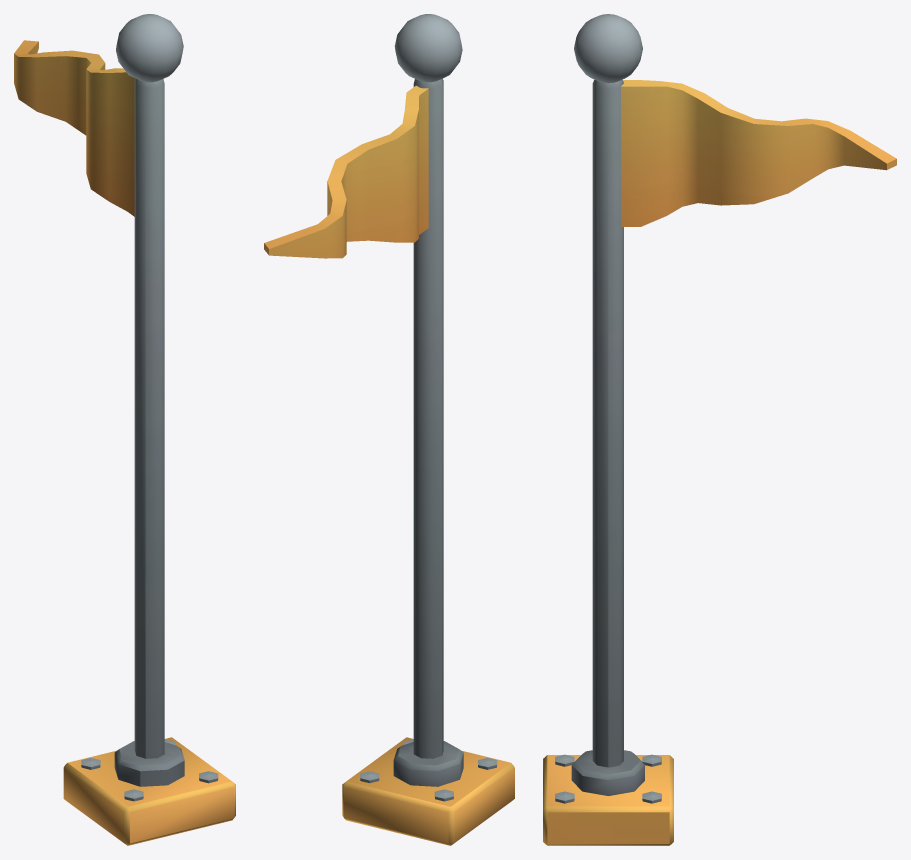
File: kit-bendera-3.glb
3 views of the same model, side by side, from view 1: azimuth 30°, elevation 25°; view 2: azimuth 150°, elevation 25°; view 3: azimuth 270°, elevation 25° (orthographic).
Parts seen in each view (by area): view 1: flag_C_yellow; view 2: flag_C_yellow; view 3: flag_C_yellow.
Boxes of the visible parts, <box> form: flag_C_yellow: <box>14,14,235,845</box>; flag_C_yellow: <box>264,14,514,845</box>; flag_C_yellow: <box>543,14,896,845</box>.
Size of the model in its own units: 0.3248 by 2.2 by 0.8786.
1 material, 1 textured.
